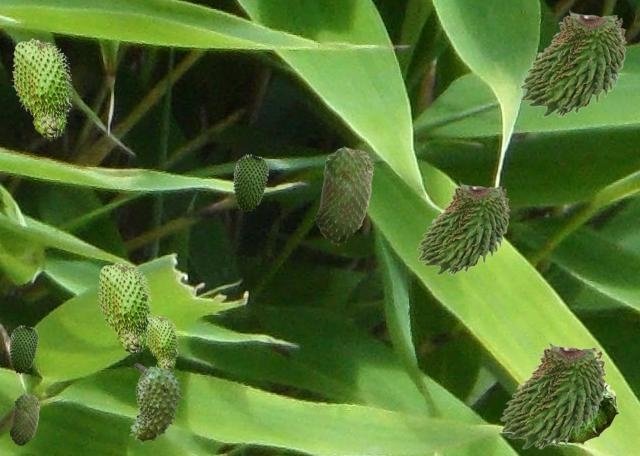guyabano: (499, 341, 606, 448), (519, 9, 626, 116), (416, 181, 509, 274), (11, 38, 72, 140), (315, 146, 373, 244), (97, 262, 152, 355), (129, 363, 183, 443), (554, 383, 618, 447), (233, 154, 267, 211), (147, 315, 178, 371), (9, 393, 39, 445), (9, 325, 37, 373)
